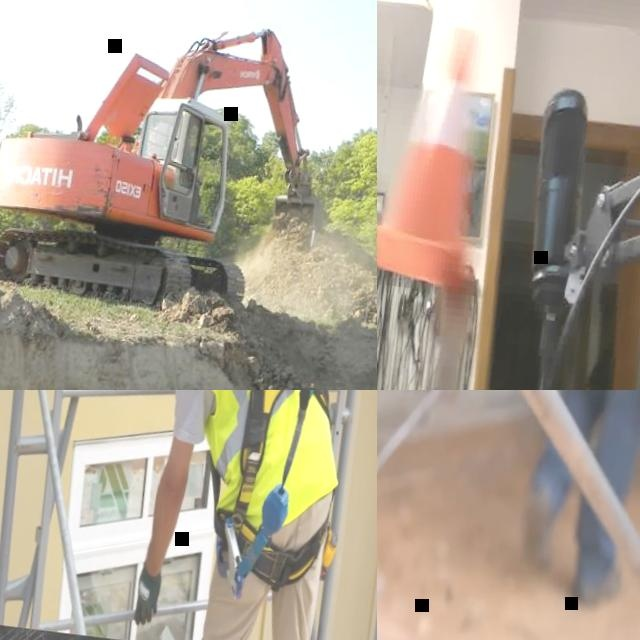NO-Safety Vest: (162, 390, 370, 541)
Person: (108, 390, 377, 640), (502, 390, 640, 617), (173, 142, 214, 226)
Safety Cone: (377, 9, 502, 298)
machinery: (0, 0, 345, 324)
